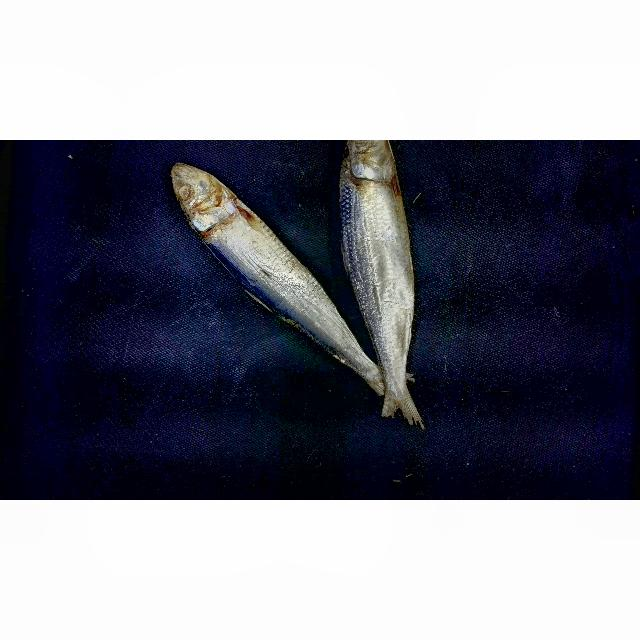Grade_A_Body: (205, 250, 344, 348), (339, 188, 430, 329)
Grade_A_Head: (160, 163, 264, 240), (329, 140, 412, 187)
Grade_A_Tail: (351, 344, 432, 433)
